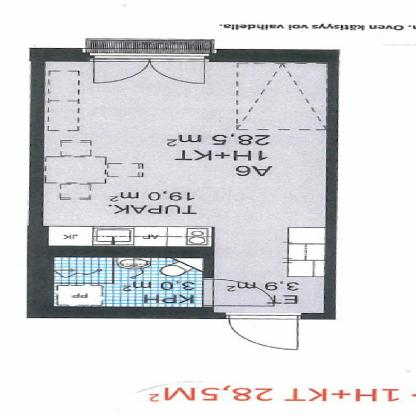door: (89, 54, 207, 88), (222, 314, 311, 354), (195, 278, 278, 308)
zone: (46, 62, 325, 314), (52, 258, 201, 308)
